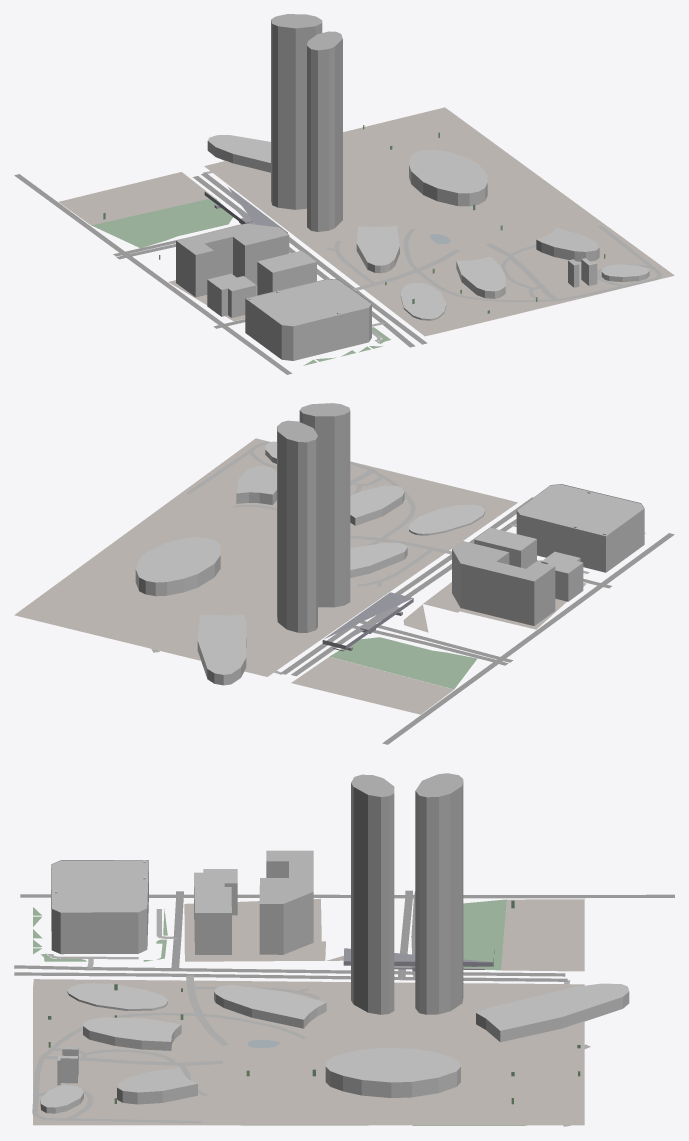
3 renders of one model, top to bottom at view 1: azimuth 30°, elevation 25°; view 2: azimuth 150°, elevation 25°; view 3: azimuth 270°, elevation 25°, orthographic. The views are drawn at different scales.
Size of the model in its own units: 504 by 219 by 599.
